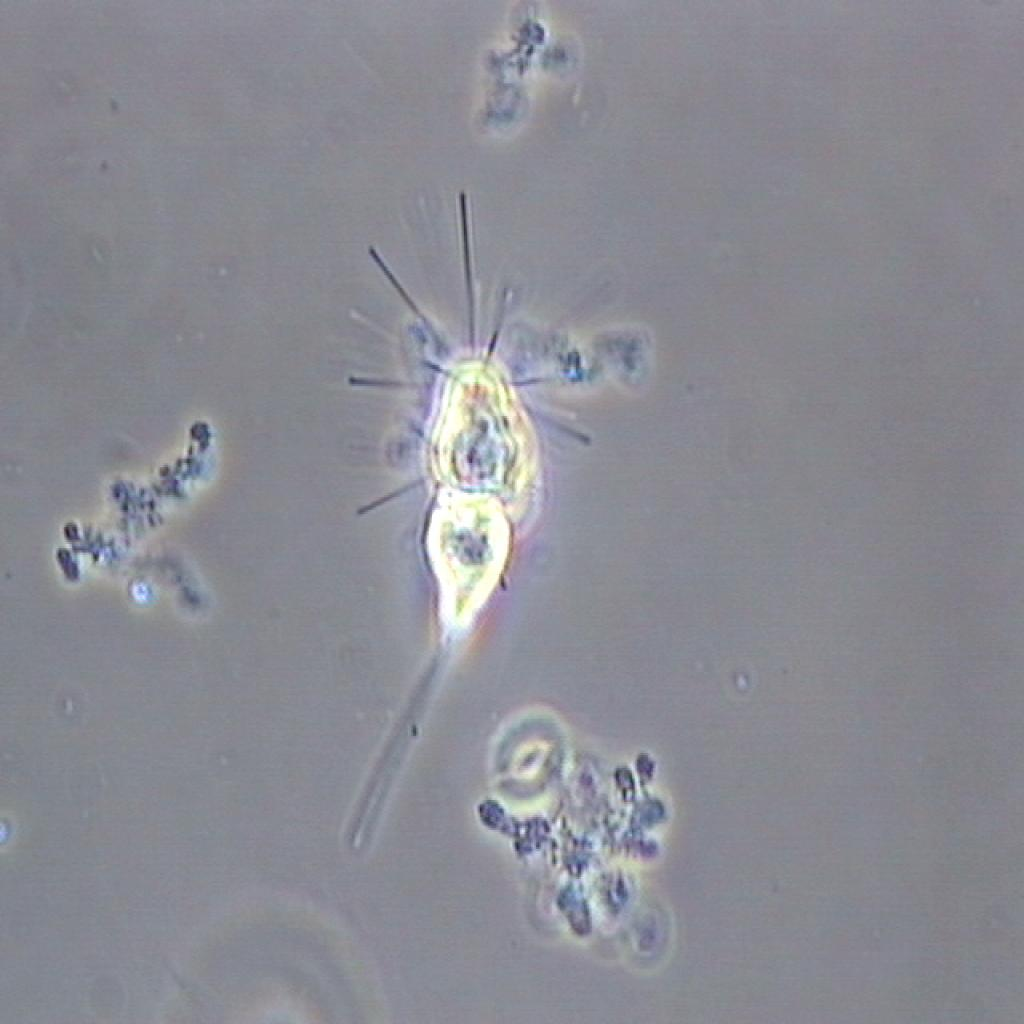Suctorida: (338, 210, 570, 720)
